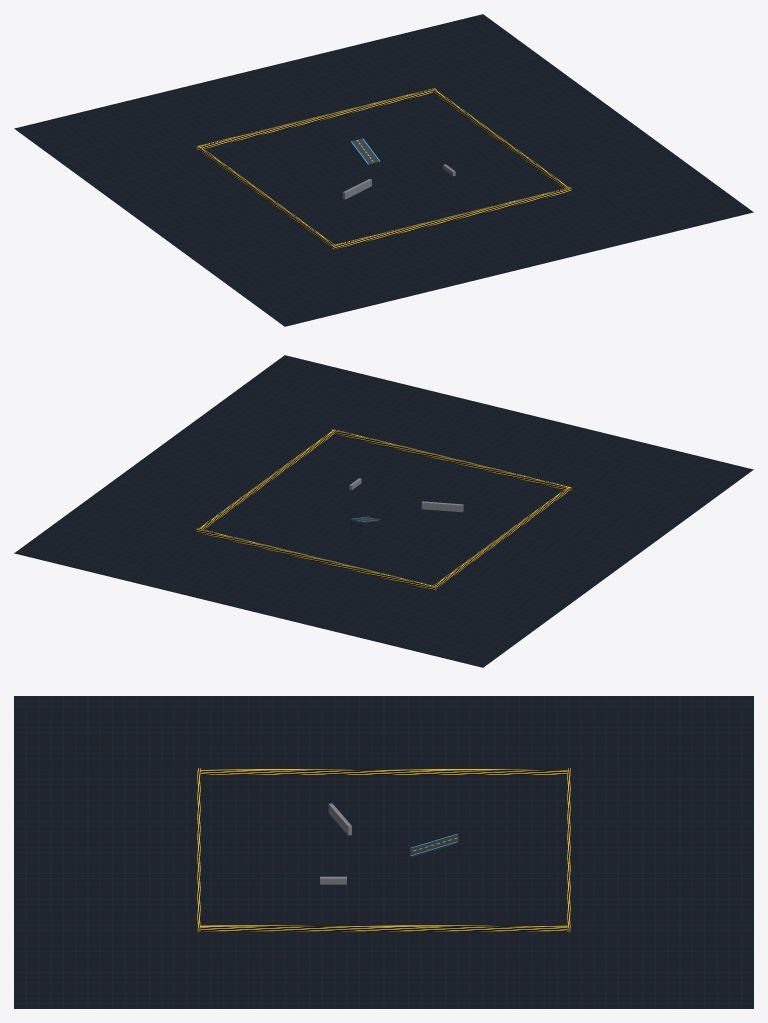
The model's file is arena.glb.
The picture shows the model from 3 angles, top to bottom: view 1: azimuth 30°, elevation 25°; view 2: azimuth 150°, elevation 25°; view 3: azimuth 270°, elevation 25°; orthographic projection. The views are drawn at different scales.
Bounding box in the file's own units: 440 × 10.39 × 440.
6 materials, 4 textured.
